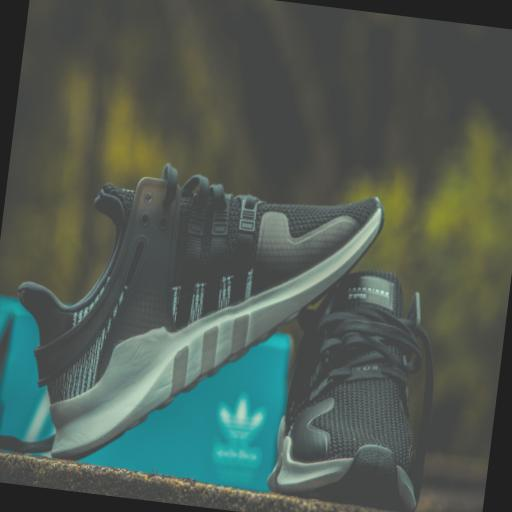shoe: (17, 165, 382, 458), (267, 271, 432, 511)
